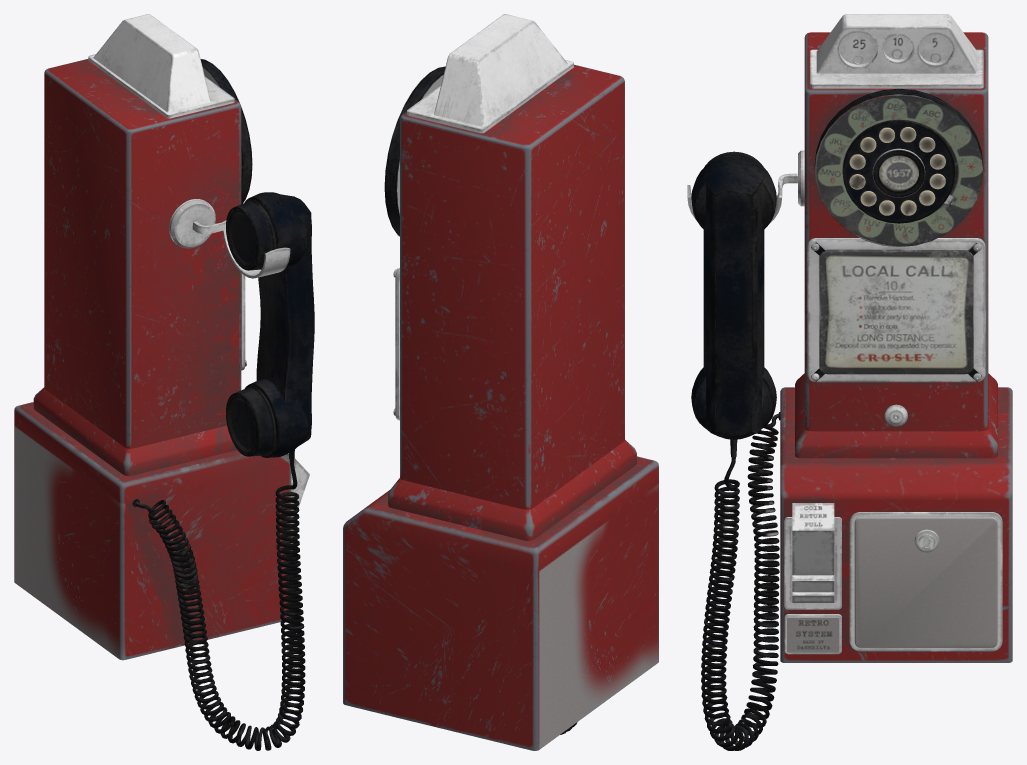
File: old_red_payphone (small).glb
3 views of the same model, side by side, from view 1: azimuth 30°, elevation 25°; view 2: azimuth 150°, elevation 25°; view 3: azimuth 270°, elevation 25° (orthographic). The views are drawn at different scales.
Visible parts, largest first — view 1: Cube_low, Cylinder.014_low, Circle_low, Cube.006_low, Cylinder.015_low, Cylinder_low, Cylinder.016_low; view 2: Cube_low, Cube.006_low, Cylinder_low, Cube.005_low; view 3: Cube_low, Cube.005_low, Cube.001_low, Cylinder.014_low, Cylinder_low, Circle_low, Cube.006_low, Cube.004_low, Cylinder.001_low, Cube.003_low, Cube.002_low.
Boxes of the visible parts, bbox=[...] form: Cube_low: bbox=[14, 59, 291, 660]; Cylinder.014_low: bbox=[226, 192, 314, 457]; Circle_low: bbox=[132, 449, 305, 750]; Cube.006_low: bbox=[88, 14, 234, 118]; Cylinder.015_low: bbox=[169, 199, 215, 248]; Cylinder_low: bbox=[200, 59, 252, 203]; Cylinder.016_low: bbox=[192, 220, 290, 278]; Cube_low: bbox=[343, 64, 658, 750]; Cube.006_low: bbox=[407, 14, 573, 133]; Cylinder_low: bbox=[384, 66, 445, 236]; Cube.005_low: bbox=[394, 268, 399, 420]; Cube_low: bbox=[780, 32, 1012, 662]; Cube.005_low: bbox=[807, 238, 985, 382]; Cube.001_low: bbox=[849, 512, 1002, 651]; Cylinder.014_low: bbox=[691, 151, 776, 439]; Cylinder_low: bbox=[814, 88, 983, 246]; Circle_low: bbox=[701, 412, 780, 750]; Cube.006_low: bbox=[810, 14, 983, 88]; Cube.004_low: bbox=[792, 503, 834, 602]; Cylinder.001_low: bbox=[849, 127, 945, 215]; Cube.003_low: bbox=[784, 614, 841, 654]; Cube.002_low: bbox=[784, 517, 841, 609].
Bounding box in the file's own units: 152 × 499 × 206.
Materials: 1 (1 with a texture image).
